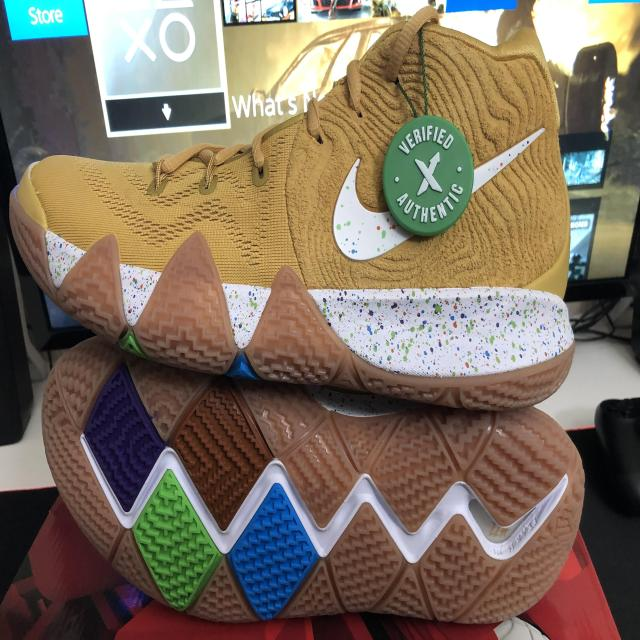shoe: (0, 0, 573, 411), (18, 339, 586, 640)
